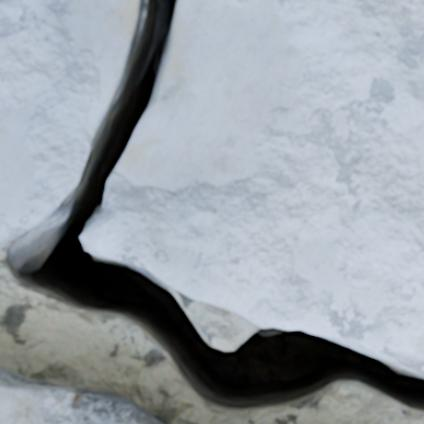brick: (0, 368, 160, 423)
broken_brick: (83, 0, 423, 365), (0, 0, 136, 245)
crack: (2, 0, 423, 423)
